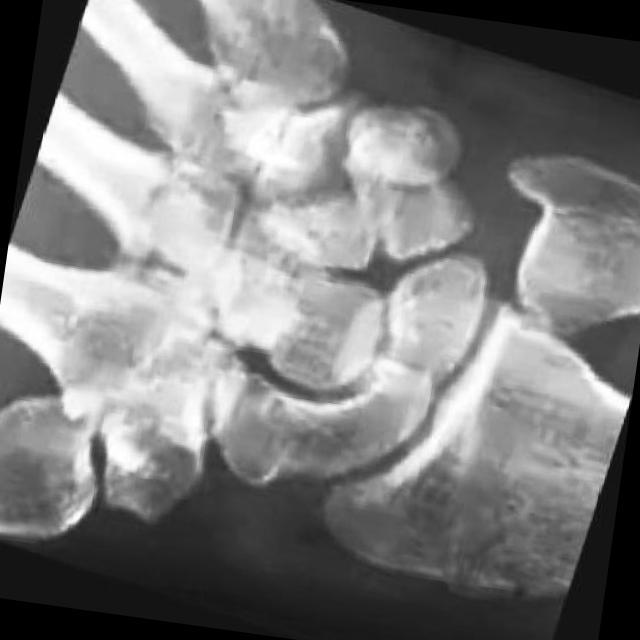bone: (198, 45, 367, 202)
